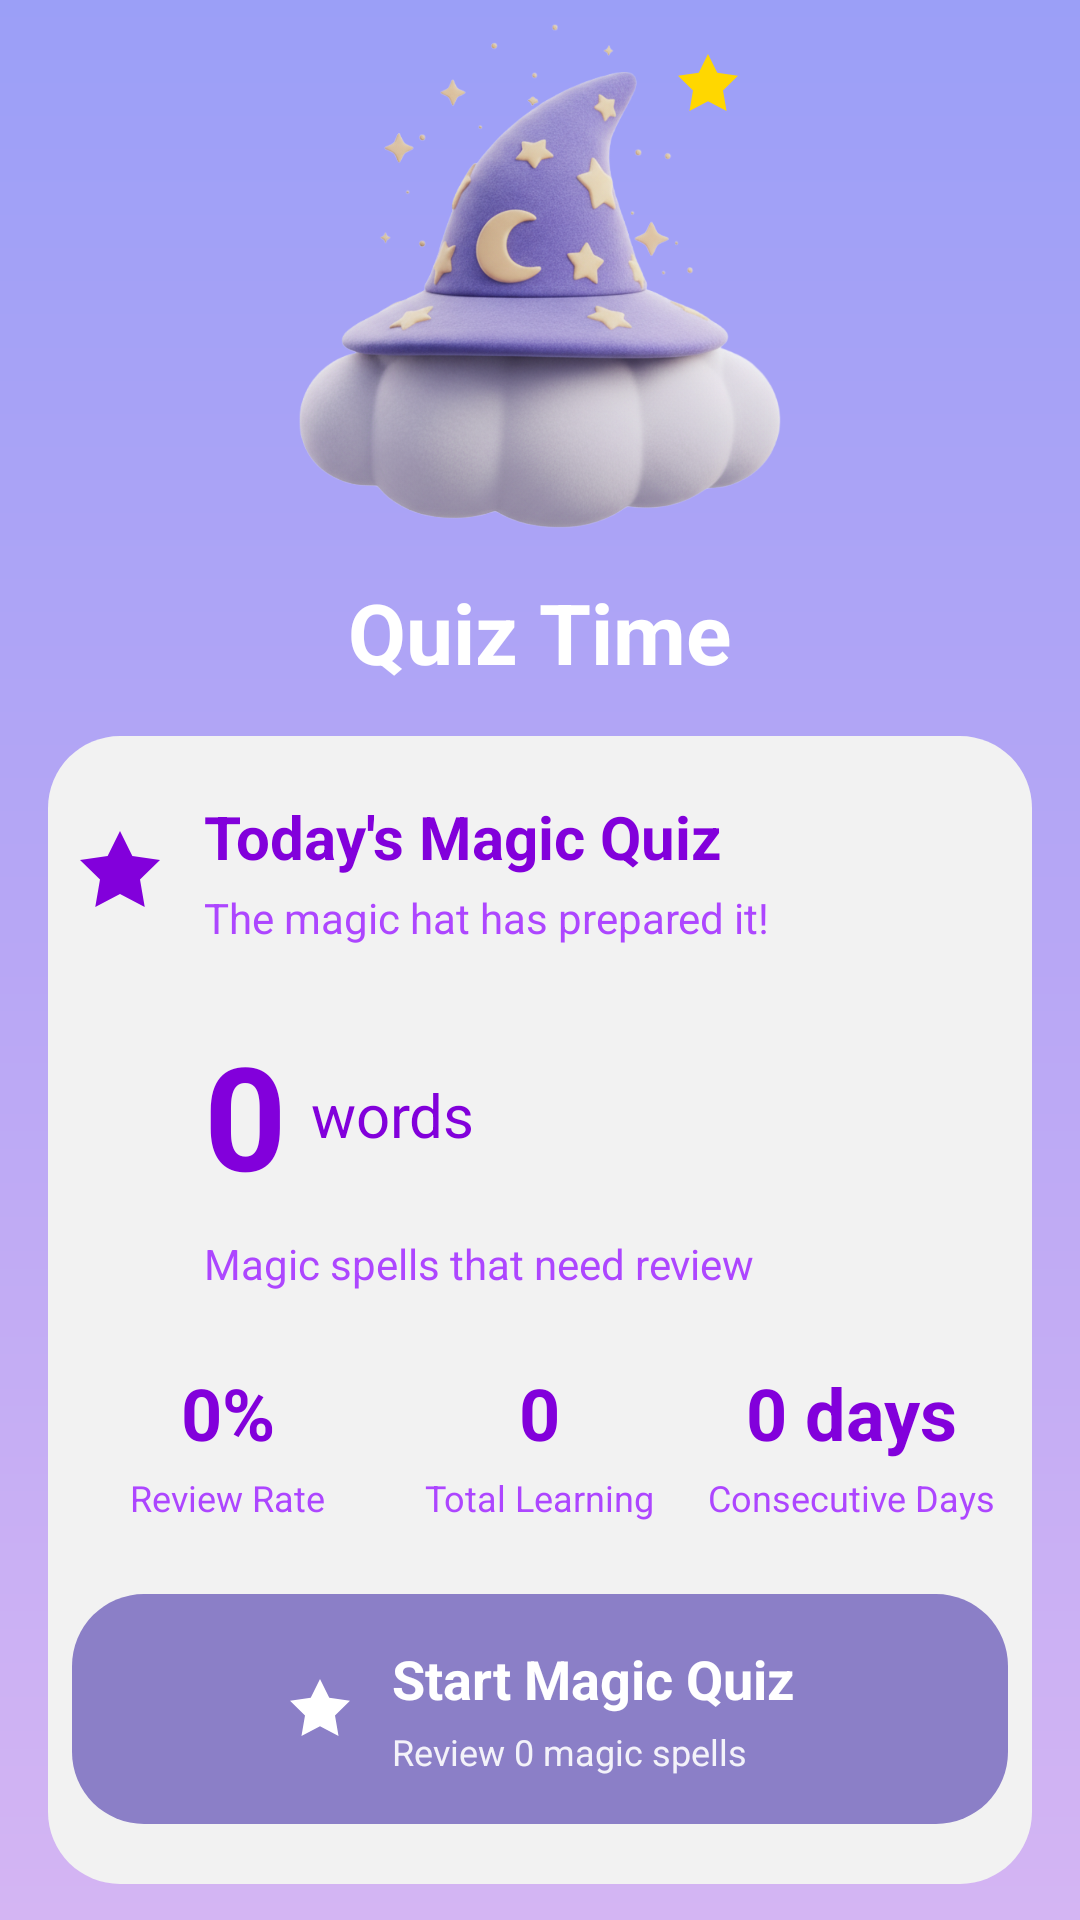

Named icons in this screenshot (1080px×1920px) and their bounding boxes, box=[x1, y1, x2, y2]:
Star Icon: box=[80, 831, 160, 907]
